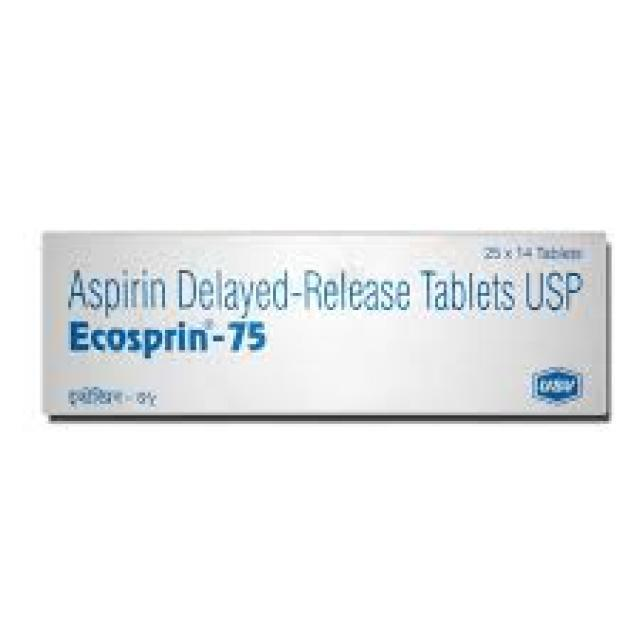authentic: (33, 217, 623, 439)
